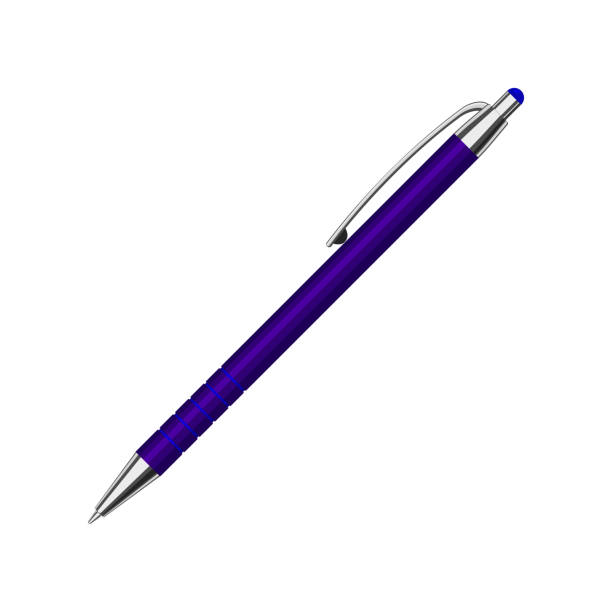pen: (83, 77, 534, 534)
